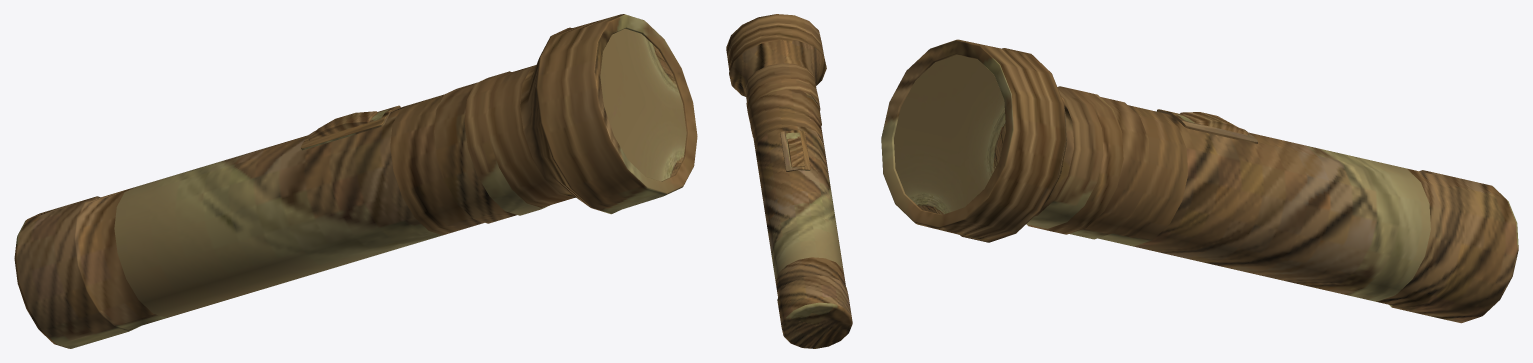
The model's file is ref_flashlight2.fbx.
3 views of the same model, side by side, from view 1: azimuth 30°, elevation 25°; view 2: azimuth 150°, elevation 25°; view 3: azimuth 270°, elevation 25° (orthographic). The views are drawn at different scales.
Visible parts, largest first — view 1: ref_flashlight2; view 2: ref_flashlight2; view 3: ref_flashlight2.
Part boxes in pixels (x1,y1,x2,y2): ref_flashlight2: [14, 14, 697, 348]; ref_flashlight2: [726, 14, 852, 348]; ref_flashlight2: [881, 39, 1518, 323].
Size of the model in its own units: 84.77 by 73.44 by 100.
